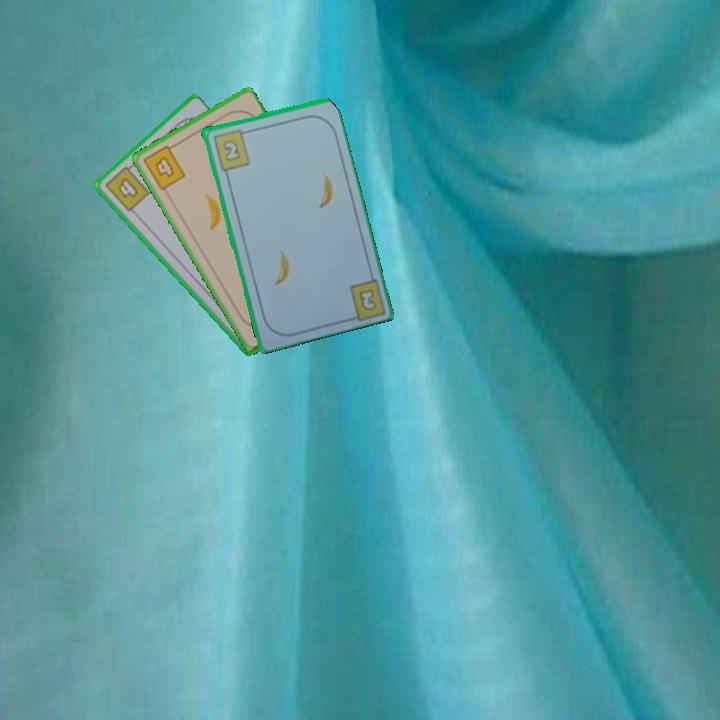2b: (209, 125, 252, 173), (355, 285, 379, 314)
4b: (101, 160, 153, 215), (139, 140, 188, 193)
